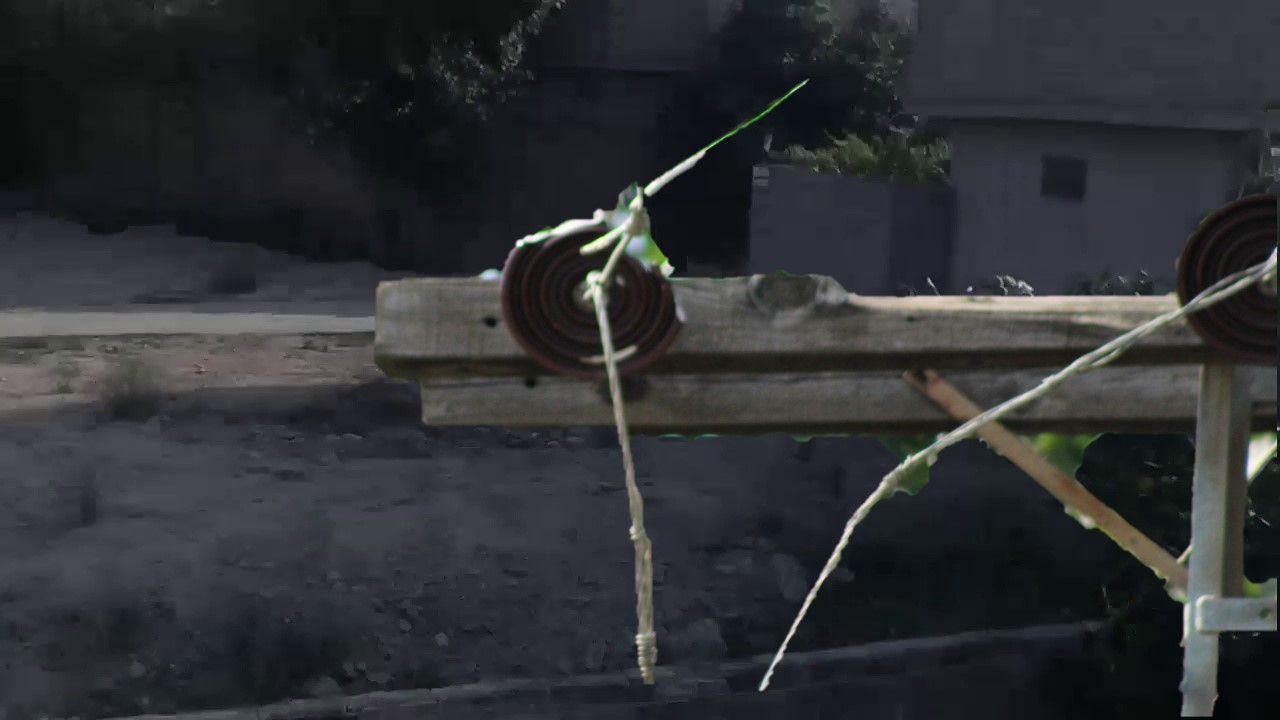defect_disc: (498, 210, 693, 394)
